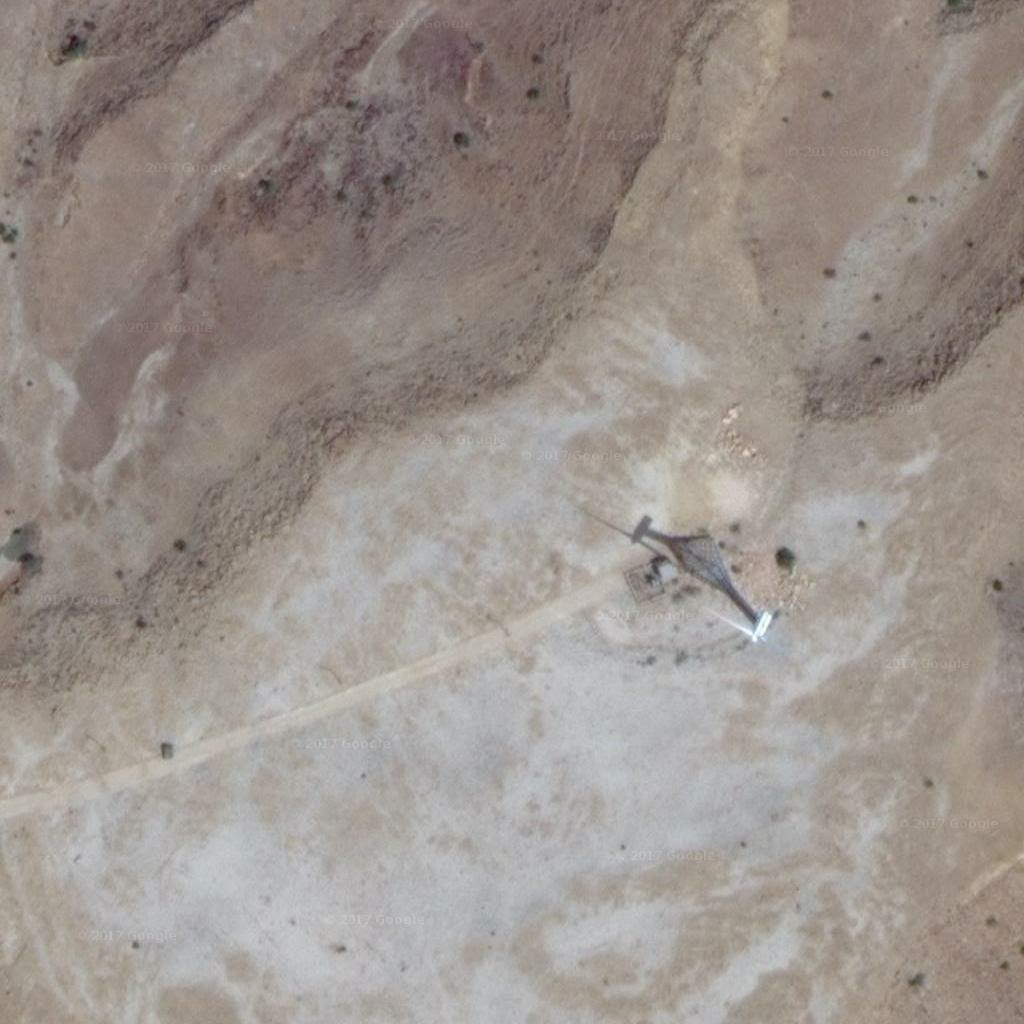Windmill: (584, 489, 774, 623)
